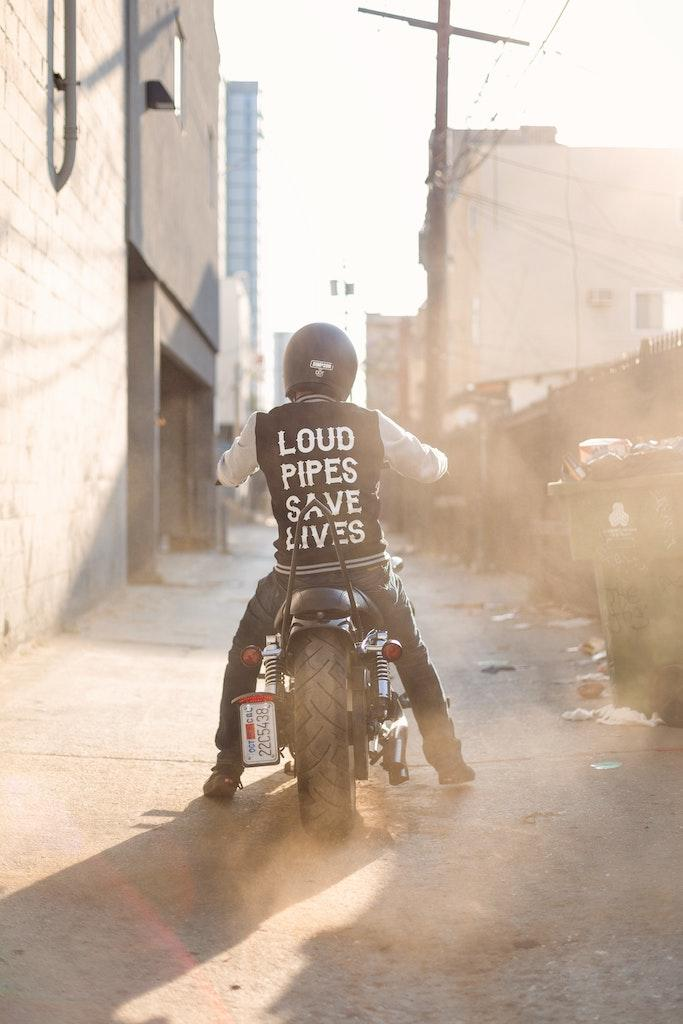helmet: (282, 321, 359, 402)
